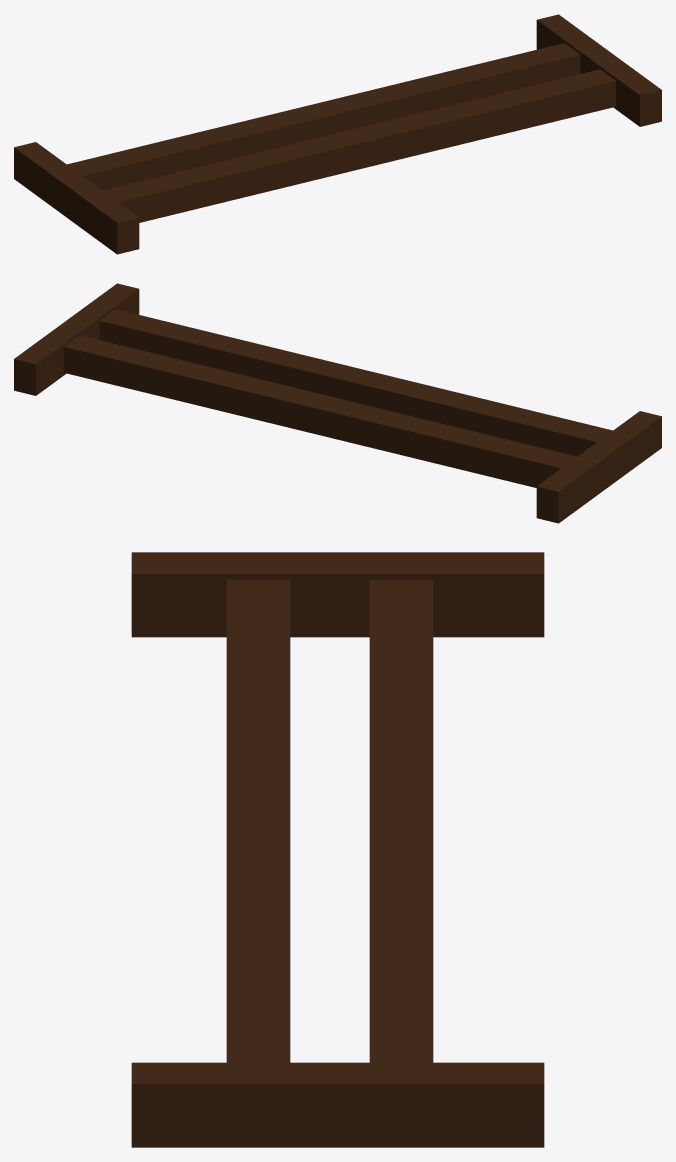
Rendered from SM_CommonVillageFence.obj.
3 renders of one model, top to bottom at view 1: azimuth 30°, elevation 25°; view 2: azimuth 150°, elevation 25°; view 3: azimuth 270°, elevation 25°, orthographic. The views are drawn at different scales.
Visible parts, largest first — view 1: SM_CommonVillageFence; view 2: SM_CommonVillageFence; view 3: SM_CommonVillageFence.
Part boxes in pixels (box(x1,y1,x2,y2)): SM_CommonVillageFence: box(14, 14, 661, 254); SM_CommonVillageFence: box(14, 283, 661, 523); SM_CommonVillageFence: box(131, 552, 544, 1147).
Bounding box in the file's own units: 396 × 22 × 130.
